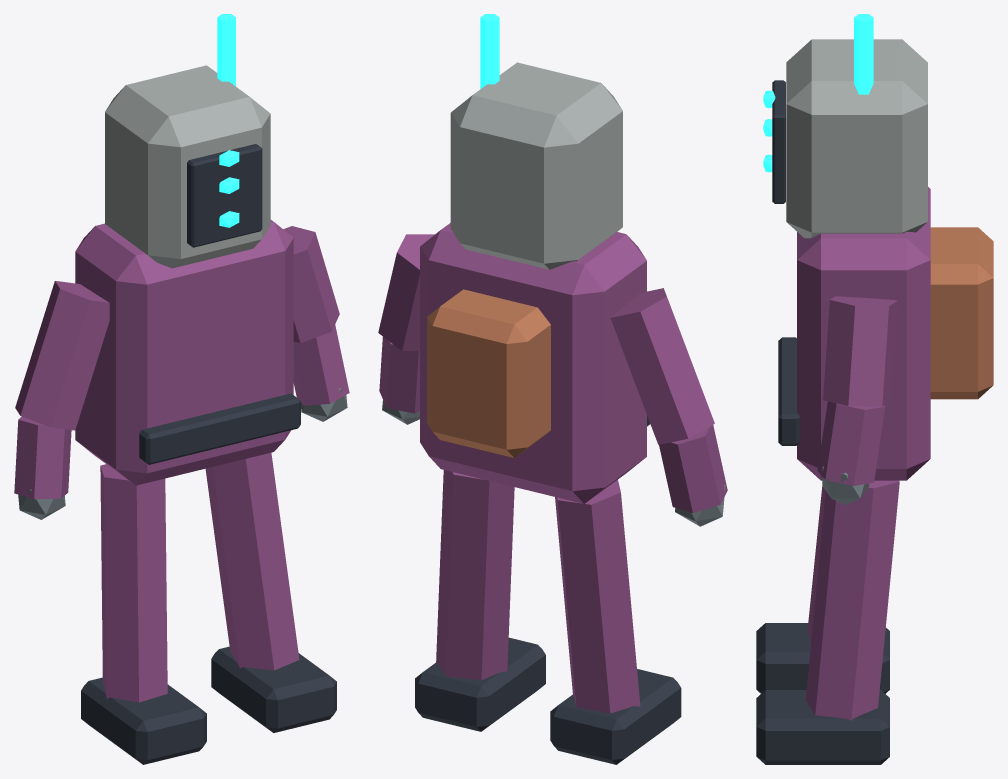
Rendered from npcs_003_seed78877.glb.
The picture shows the model from 3 angles, left to right: view 1: azimuth 30°, elevation 25°; view 2: azimuth 150°, elevation 25°; view 3: azimuth 270°, elevation 25°; orthographic projection. The views are drawn at different scales.
Parts seen in each view (by area): view 1: npcs_003_seed78877; view 2: npcs_003_seed78877; view 3: npcs_003_seed78877.
Boxes of the visible parts, bbox=[...] form: npcs_003_seed78877: bbox=[14, 14, 349, 764]; npcs_003_seed78877: bbox=[378, 14, 727, 764]; npcs_003_seed78877: bbox=[756, 14, 993, 764].
Bounding box in the file's own units: 0.8864 × 1.76 × 0.5264.
